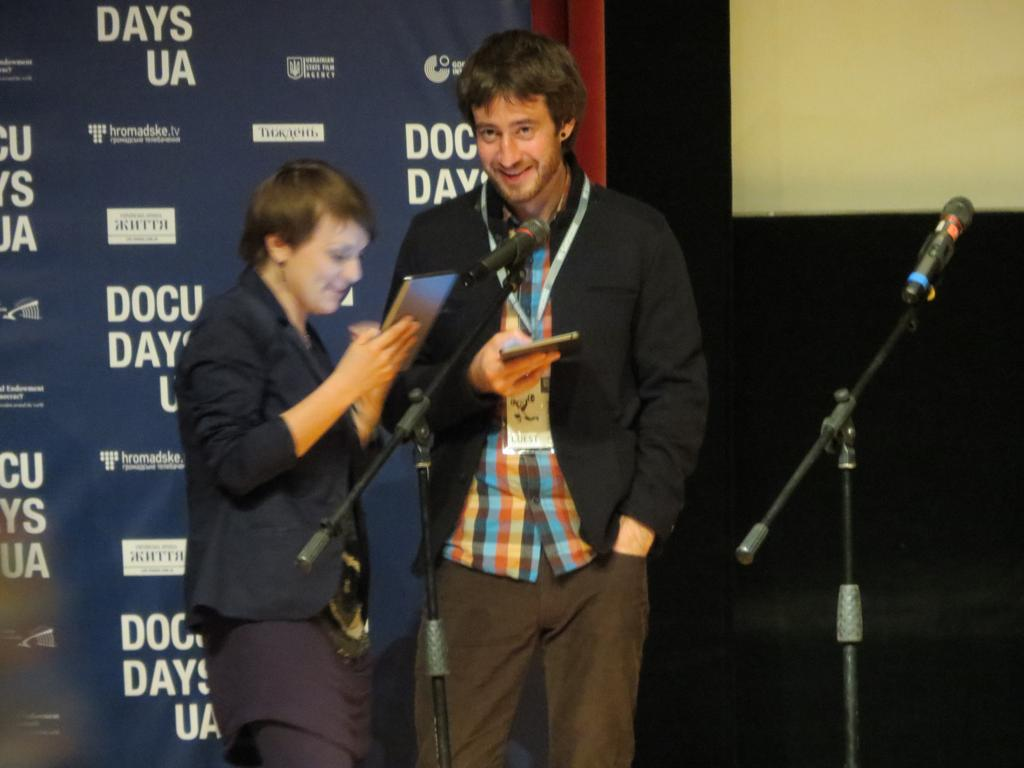face: (470, 86, 558, 202), (290, 200, 368, 316)
